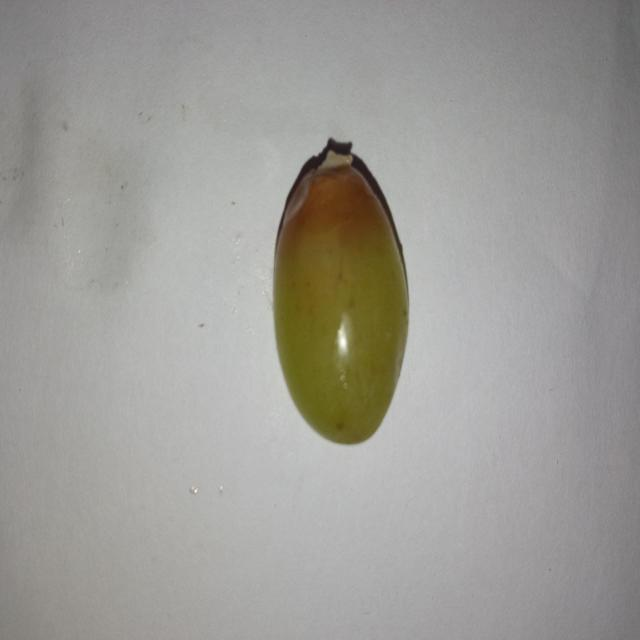rotten_grape: (272, 157, 410, 446)
